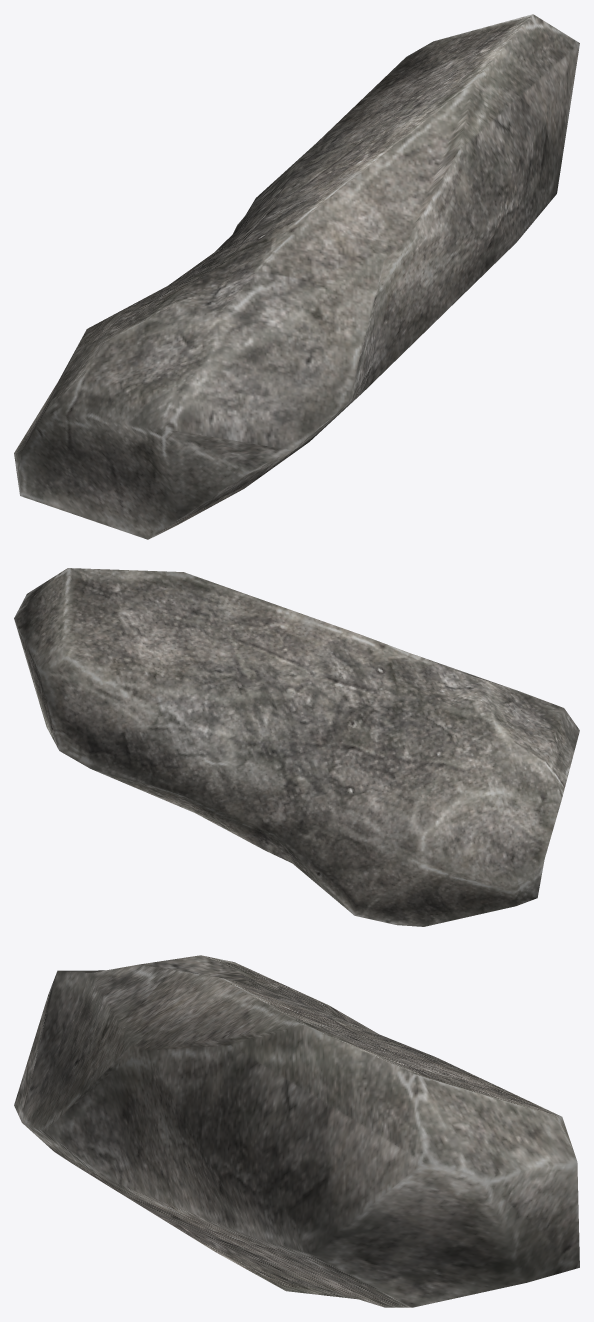
Rendered from piece.obj.
The picture shows the model from 3 angles, top to bottom: view 1: azimuth 30°, elevation 25°; view 2: azimuth 150°, elevation 25°; view 3: azimuth 270°, elevation 25°; orthographic projection. The views are drawn at different scales.
Parts seen in each view (by area): view 1: Rock2; view 2: Rock2; view 3: Rock2.
Part boxes in pixels (bbox=[...]): Rock2: bbox=[14, 14, 579, 539]; Rock2: bbox=[14, 568, 579, 926]; Rock2: bbox=[14, 955, 579, 1307].
Bounding box in the file's own units: 0.452 × 0.2602 × 0.2811.
1 material, 1 textured.
